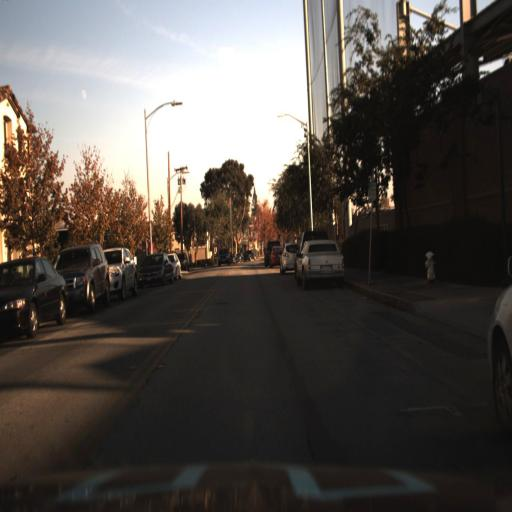car: (0, 257, 67, 345), (58, 240, 110, 324), (294, 236, 355, 294), (104, 239, 142, 305), (137, 249, 172, 293), (136, 254, 174, 290), (276, 235, 297, 279), (166, 244, 184, 288), (215, 244, 232, 269)
